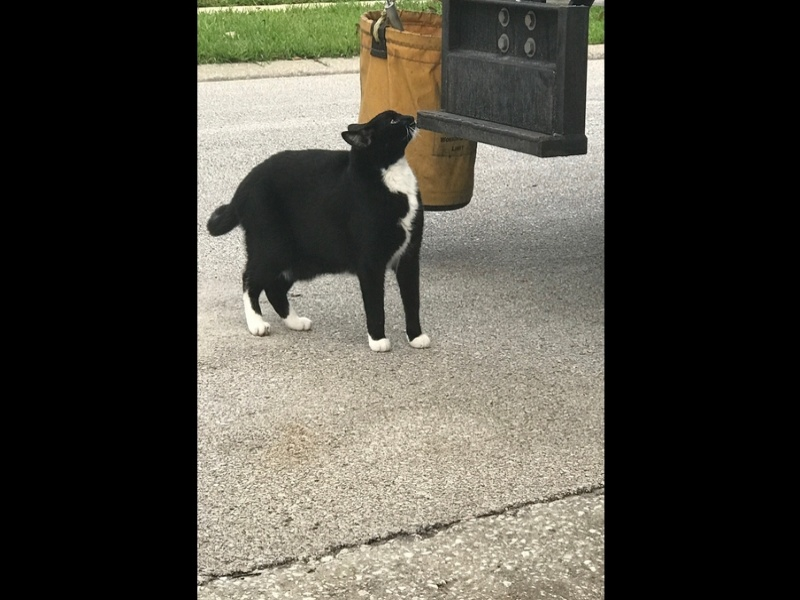cat: (204, 105, 435, 353)
